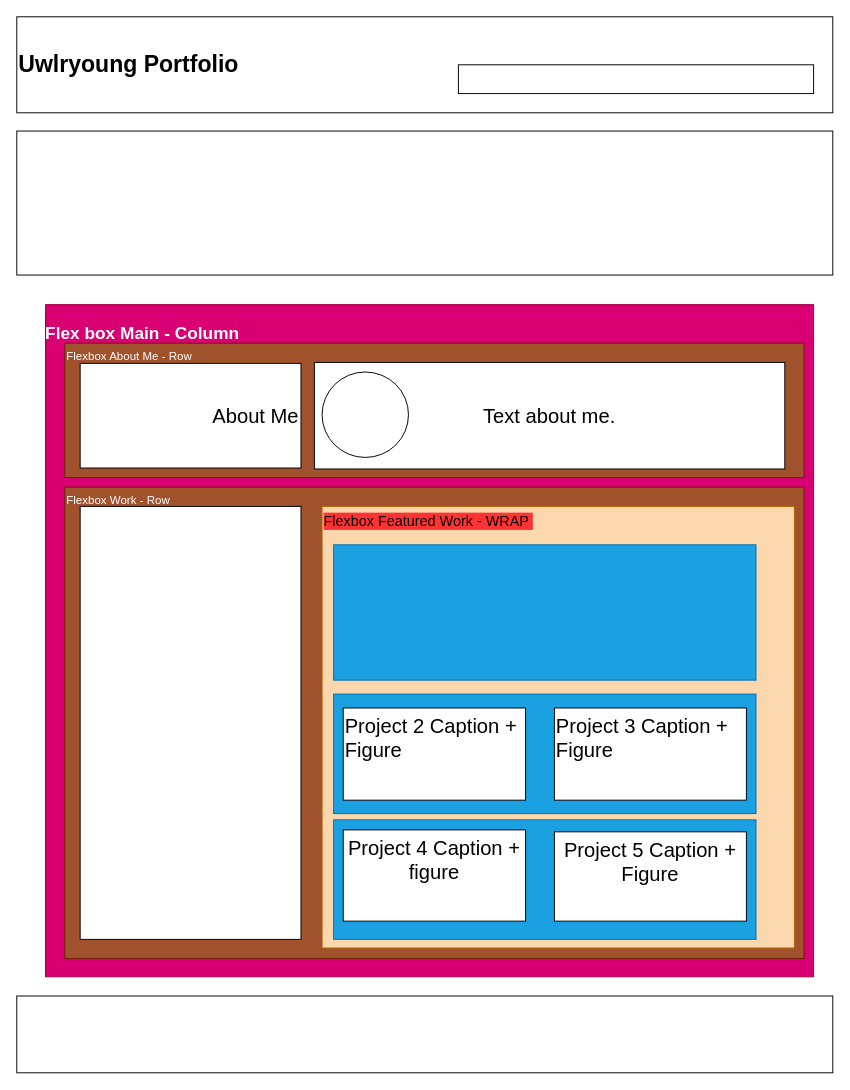
This 850x1090 diagram has some shape labels left out. The centre of each missing label's shape, as x and y in pixels:
Contact Me:: [424,1034]
Figure with an caption, a hero pic! (automatic slide show?): [424,202]
Nav - Projects: [635,79]
Profile Pic: [364,414]
Project 1 Caption + Figure: [544,612]
Work: [190,722]
